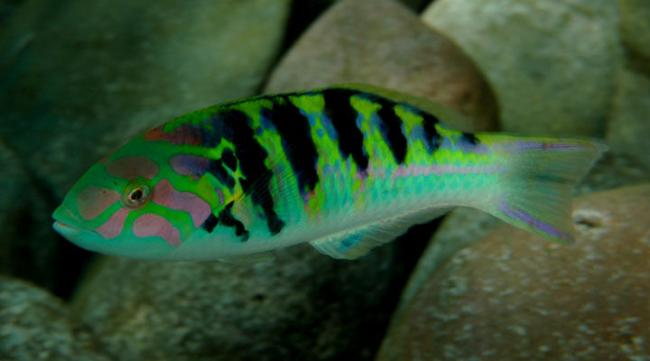fish: (51, 81, 613, 261)
